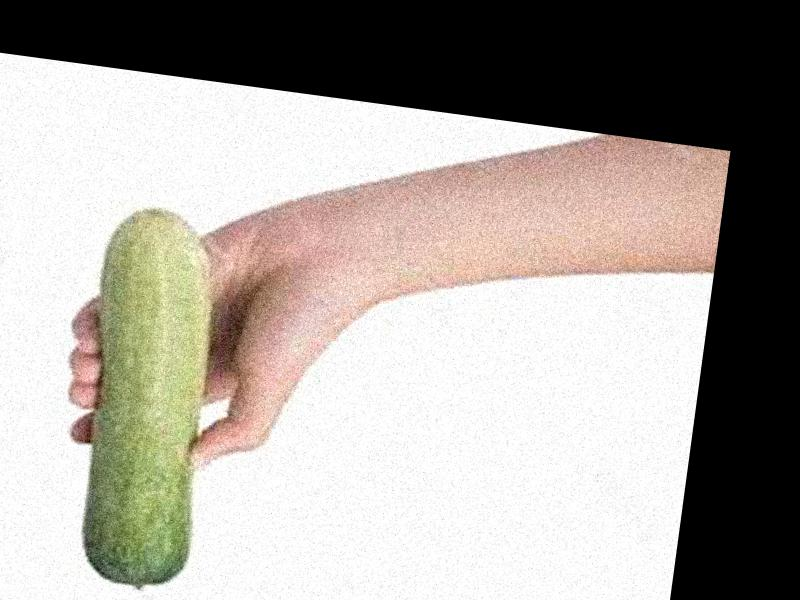Cucumber: (65, 200, 241, 598)
